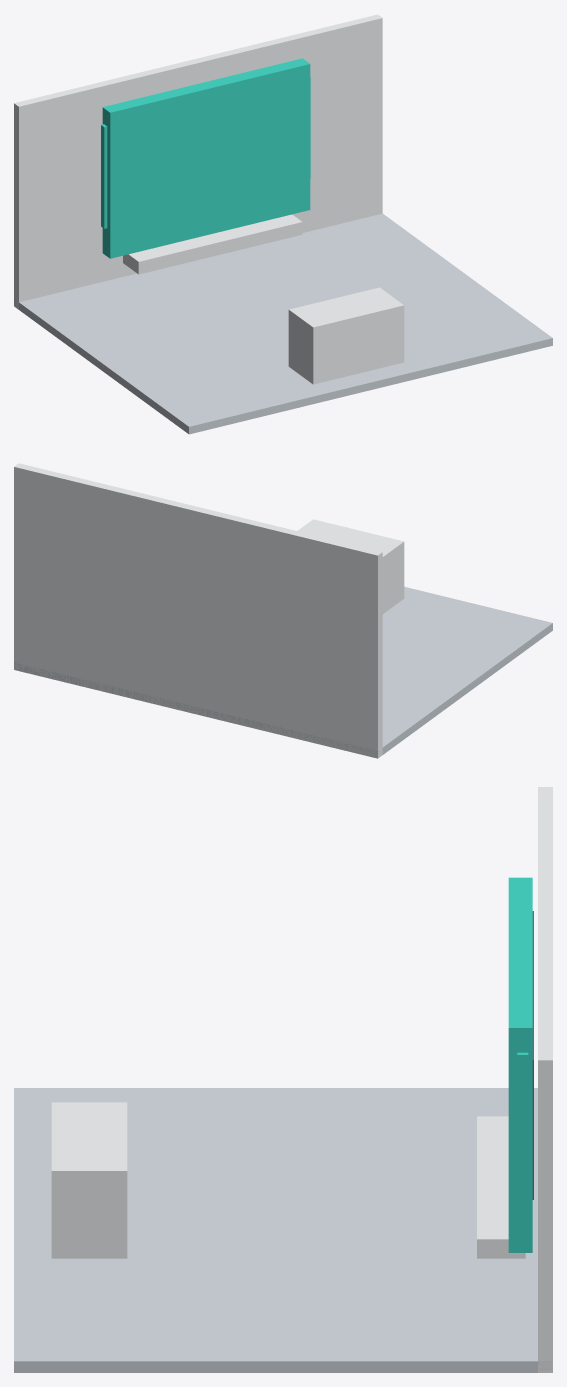
3 views of the same model, one above another, from view 1: azimuth 30°, elevation 25°; view 2: azimuth 150°, elevation 25°; view 3: azimuth 270°, elevation 25° (orthographic). The views are drawn at different scales.
Visible parts, largest first — view 1: Exhibition Booth Concept; view 2: Exhibition Booth Concept; view 3: Exhibition Booth Concept.
Boxes of the visible parts, left/top/right/bottom form: Exhibition Booth Concept: left=14, top=14, right=552, bottom=434; Exhibition Booth Concept: left=14, top=463, right=552, bottom=758; Exhibition Booth Concept: left=14, top=787, right=552, bottom=1372.
Size of the model in its own units: 6 by 3.2 by 5.
